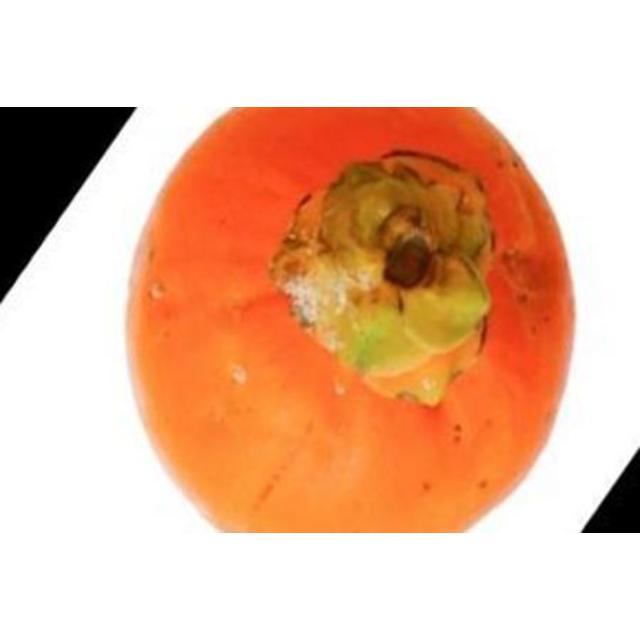good: (124, 107, 577, 532)
